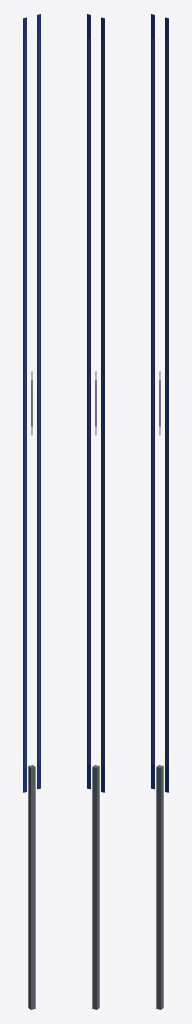
File: solar_array_panel.glb
3 renders of one model, left to right at view 1: azimuth 30°, elevation 25°; view 2: azimuth 150°, elevation 25°; view 3: azimuth 330°, elevation 25°, orthographic.
Parts seen in each view (by area): view 1: panel, spine, arm_r, arm_l; view 2: panel, spine, arm_r, arm_l; view 3: panel, spine, arm_l, arm_r.
Boxes of the visible parts, left/top/right/bottom form: panel: left=23, top=14, right=40, bottom=792; spine: left=28, top=765, right=35, bottom=1009; arm_r: left=38, top=39, right=39, bottom=764; arm_l: left=25, top=42, right=25, bottom=767; panel: left=87, top=14, right=104, bottom=792; spine: left=92, top=765, right=99, bottom=1009; arm_r: left=88, top=39, right=89, bottom=764; arm_l: left=102, top=42, right=102, bottom=767; panel: left=151, top=14, right=168, bottom=792; spine: left=156, top=765, right=163, bottom=1009; arm_l: left=152, top=39, right=153, bottom=764; arm_r: left=166, top=42, right=166, bottom=767.
Bounding box in the file's own units: 0.304 × 16.4 × 0.08.
